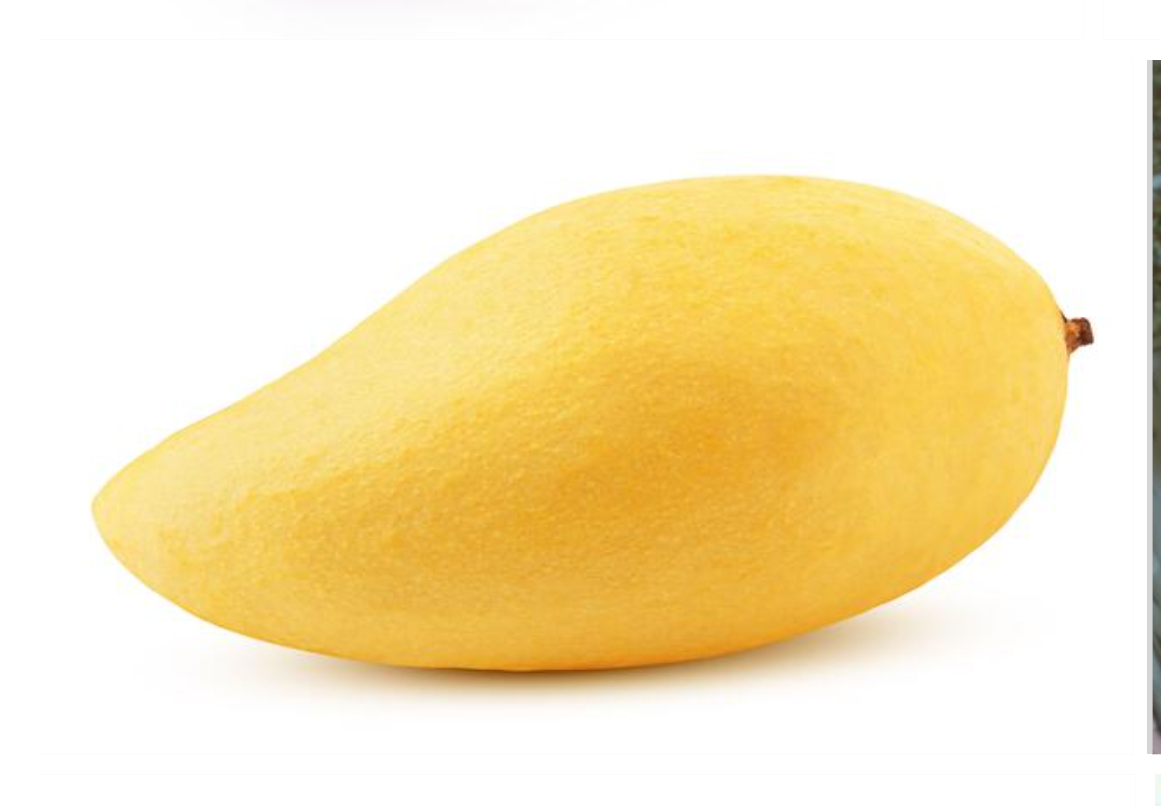mango: (99, 167, 1069, 673)
